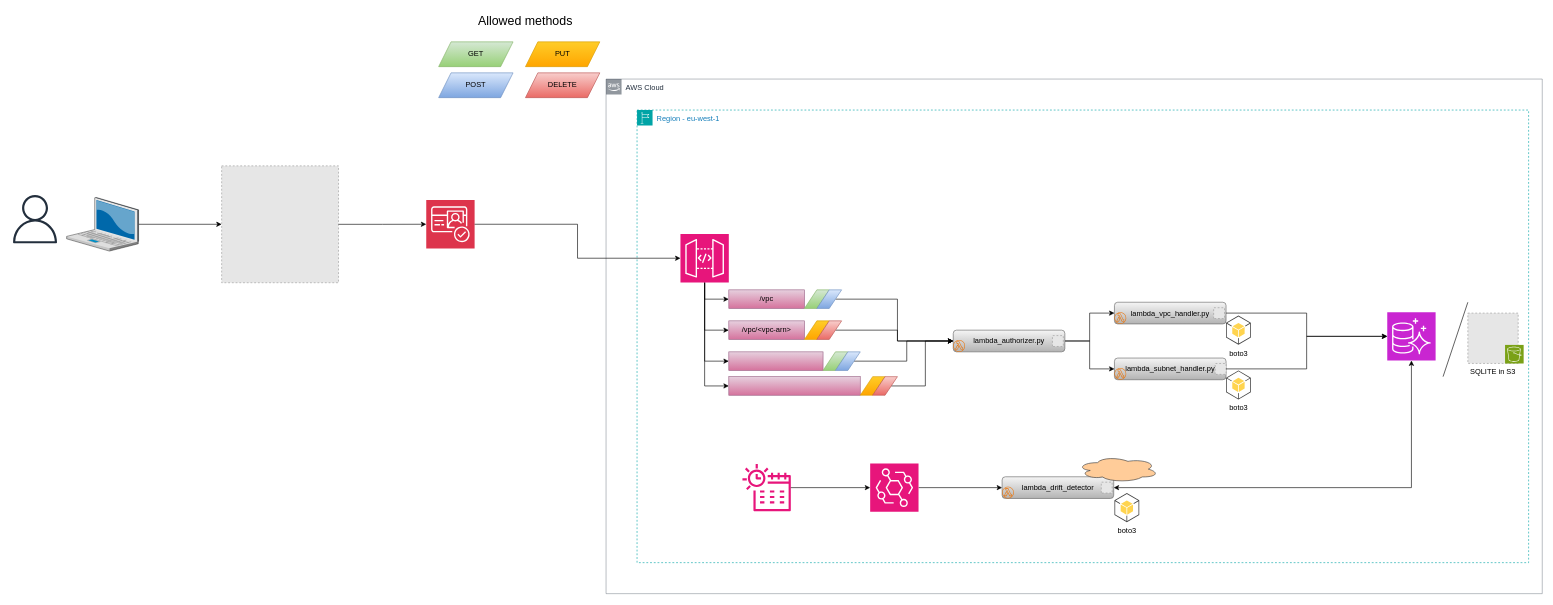
Image size: 1553x605. Some labels were removed from this diagram. Grey dashed boxes stand in for pictures. Here are the shapes that lost their labels. From the top down, the centre of each, then its label:
At (704,257): "API Gateway".
At (1411,336): "Aurora Database".
At (775,360): "/vpc/<vpc-arn>/subnet".
At (794,385): "/vpc/<vpc-arn>/subnet/<subnet-arn>".
At (766,487): "Scheduled trigger".
At (894,487): "EventBus".
At (1117,469): "Sanity checker".
